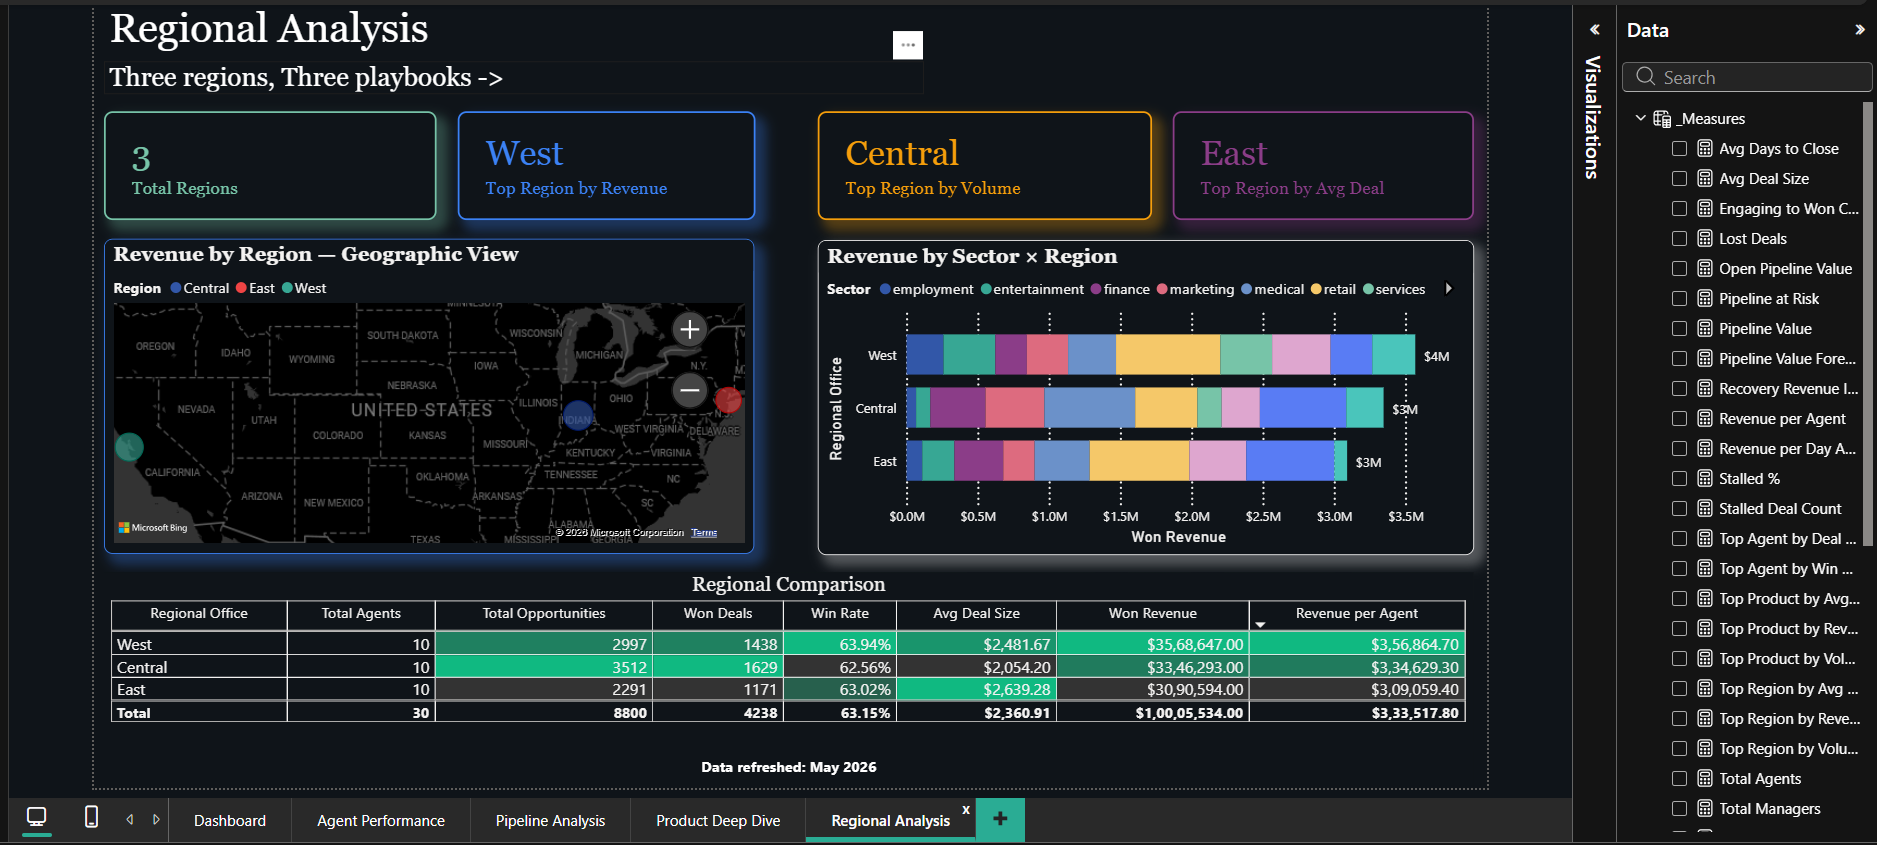

The page's visual inventory and layout, read from the dashboard file:
{"tool":"powerbi","page":{"name":"Regional Analysis","canvas":[1280,720],"ordinal":4},"visuals":[{"type":"textbox","title":"Regional Analysis ","box":[9.3,0,597.7,43],"z":0},{"type":"textbox","title":"Three regions, Three playbooks ->","box":[9.3,51.2,753.5,31.4],"z":1000},{"type":"cardVisual","fields":{"Data":["_Measures.Total Regions"]},"box":[9.3,97.7,305.8,100],"z":2000},{"type":"cardVisual","fields":{"Data":["_Measures.Top Region by Volume"]},"box":[665.1,97.7,307,100],"z":3000},{"type":"cardVisual","fields":{"Data":["_Measures.Top Region by Revenue"]},"box":[333.7,97.7,273.3,100],"z":4000},{"type":"cardVisual","fields":{"Data":["_Measures.Top Region by Avg Deal"]},"box":[991.9,97.7,276.7,100],"z":5000},{"type":"map","title":"Revenue by Region — Geographic View","fields":{"Size":["_Measures.Won Deals"],"Y":["RegionGeo.Latitude"],"X":["RegionGeo.Longitude"],"Series":["RegionGeo.Region"]},"box":[9.3,215.1,597.7,289.5],"z":6000},{"type":"barChart","title":"Revenue by Sector × Region","fields":{"Category":["dim_sales_agent.regional_office"],"Y":["_Measures.Won Revenue"],"Series":["dim_account.sector"]},"box":[665.1,216.3,603.5,289.5],"z":7000},{"type":"tableEx","title":"Regional Comparison","fields":{"Values":["dim_sales_agent.regional_office","_Measures.Total Agents","_Measures.Total Opportunities","_Measures.Won Deals","_Measures.Win Rate","_Measures.Avg Deal Size","_Measures.Won Revenue","_Measures.Revenue per Agent"]},"box":[8.8,521.2,1258.8,155],"z":8000},{"type":"textbox","box":[8.8,686.2,1258.8,33.8],"z":9000}]}

Visuals, with their boxes on the page's 1280x720 design canvas (x1, y1, x2, y2). These are canvas units, not pixel positions in the 1877x845 screenshot, which may show the page scaled, cropped or inside an application window:
"Regional Analysis " textbox: bbox=[9, 0, 607, 43]
"Three regions, Three playbooks ->" textbox: bbox=[9, 51, 763, 83]
cardVisual - _Measures.Total Regions: bbox=[9, 98, 315, 198]
cardVisual - _Measures.Top Region by Volume: bbox=[665, 98, 972, 198]
cardVisual - _Measures.Top Region by Revenue: bbox=[334, 98, 607, 198]
cardVisual - _Measures.Top Region by Avg Deal: bbox=[992, 98, 1269, 198]
"Revenue by Region — Geographic View" map: bbox=[9, 215, 607, 505]
"Revenue by Sector × Region" barChart: bbox=[665, 216, 1269, 506]
"Regional Comparison" tableEx: bbox=[9, 521, 1268, 676]
textbox: bbox=[9, 686, 1268, 720]
